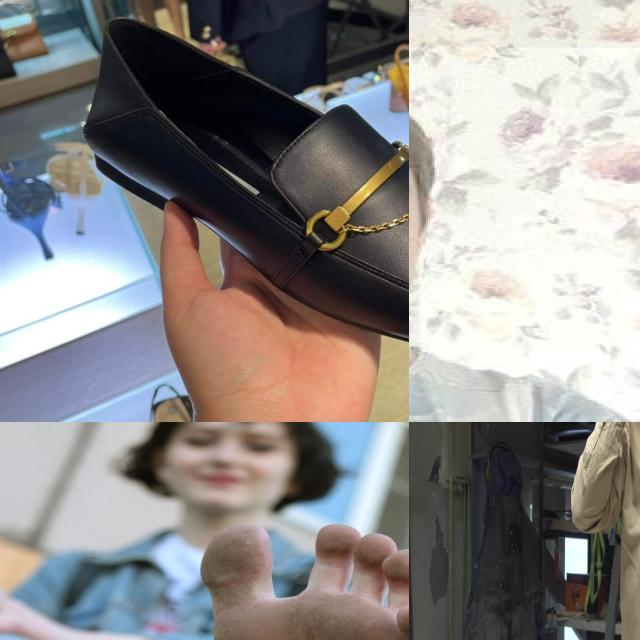Barefoots: (200, 523, 409, 640)
Sandals: (42, 0, 409, 379)
person: (409, 47, 640, 422)
